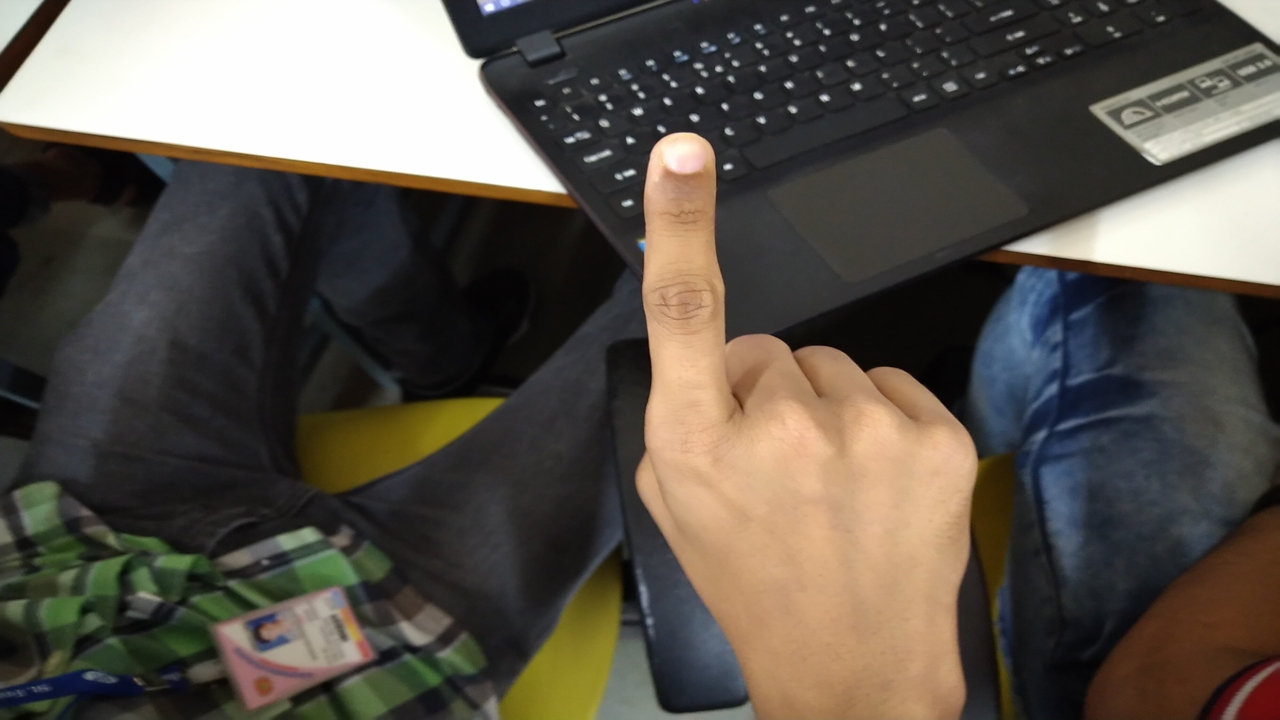fingertip: (648, 130, 716, 200)
